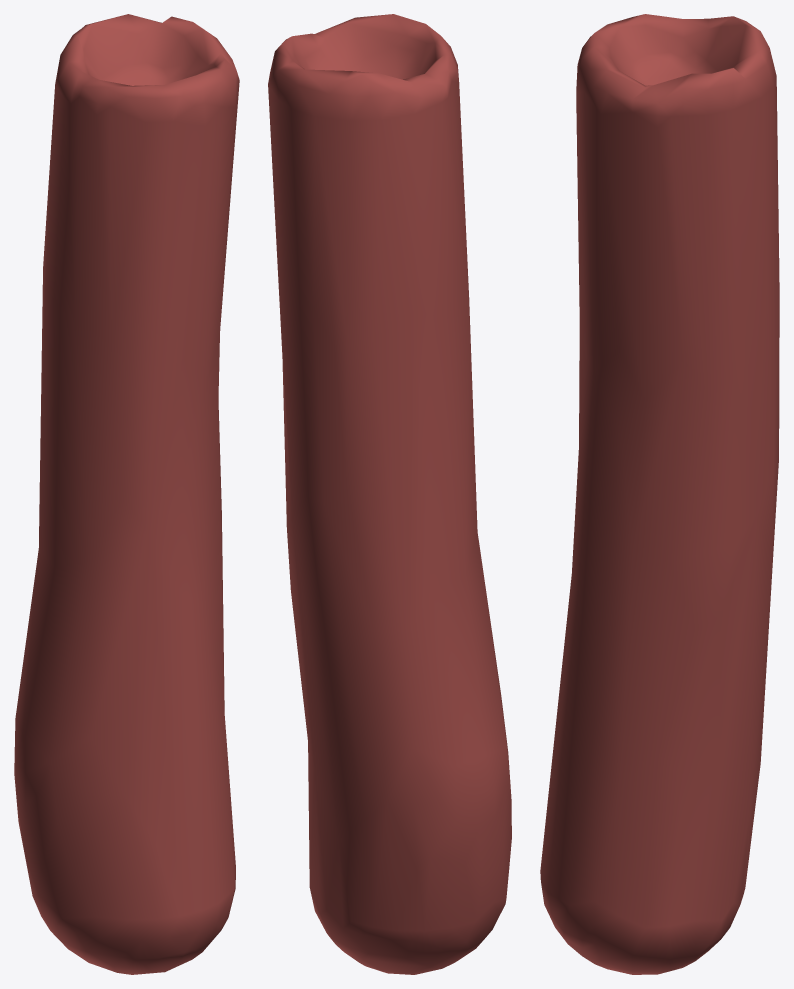
Rendered from FMA4754.glb.
The picture shows the model from 3 angles, left to right: view 1: azimuth 30°, elevation 25°; view 2: azimuth 150°, elevation 25°; view 3: azimuth 270°, elevation 25°; orthographic projection. The views are drawn at different scales.
Parts seen in each view (by area): view 1: FMA4754; view 2: FMA4754; view 3: FMA4754.
Part boxes in pixels (x1=…): FMA4754: x1=14, y1=14, x2=239, y2=974; FMA4754: x1=268, y1=14, x2=511, y2=974; FMA4754: x1=540, y1=14, x2=779, y2=974.
Bounding box in the file's own units: 0.00977 × 0.0413 × 0.00949.
